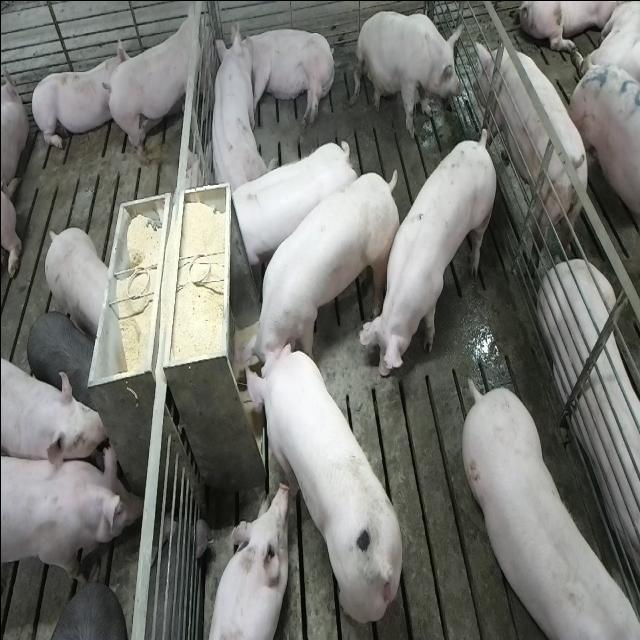Feeding: (239, 336, 405, 624), (234, 166, 402, 386)
Lateral_lying: (235, 22, 336, 128)
Sitting: (354, 8, 466, 138)
Standing: (464, 383, 640, 640), (364, 120, 500, 380), (468, 42, 585, 264), (1, 444, 141, 596), (228, 138, 359, 278), (102, 1, 205, 167), (0, 354, 105, 466), (26, 308, 100, 411), (43, 225, 109, 338), (39, 572, 124, 638)
Sternal_lying: (539, 260, 640, 606), (202, 482, 288, 640), (28, 39, 122, 155), (206, 26, 264, 198)
